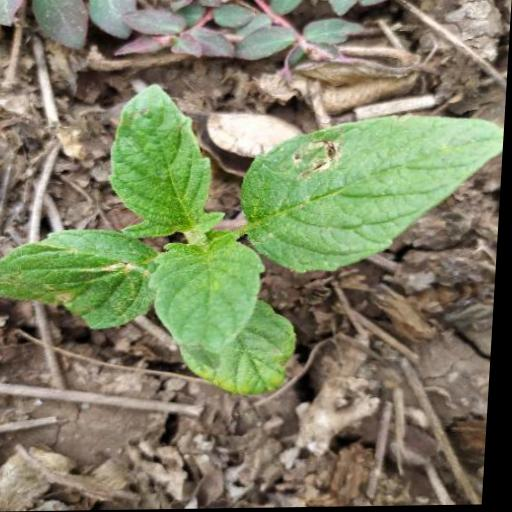crop: (0, 70, 508, 409)
